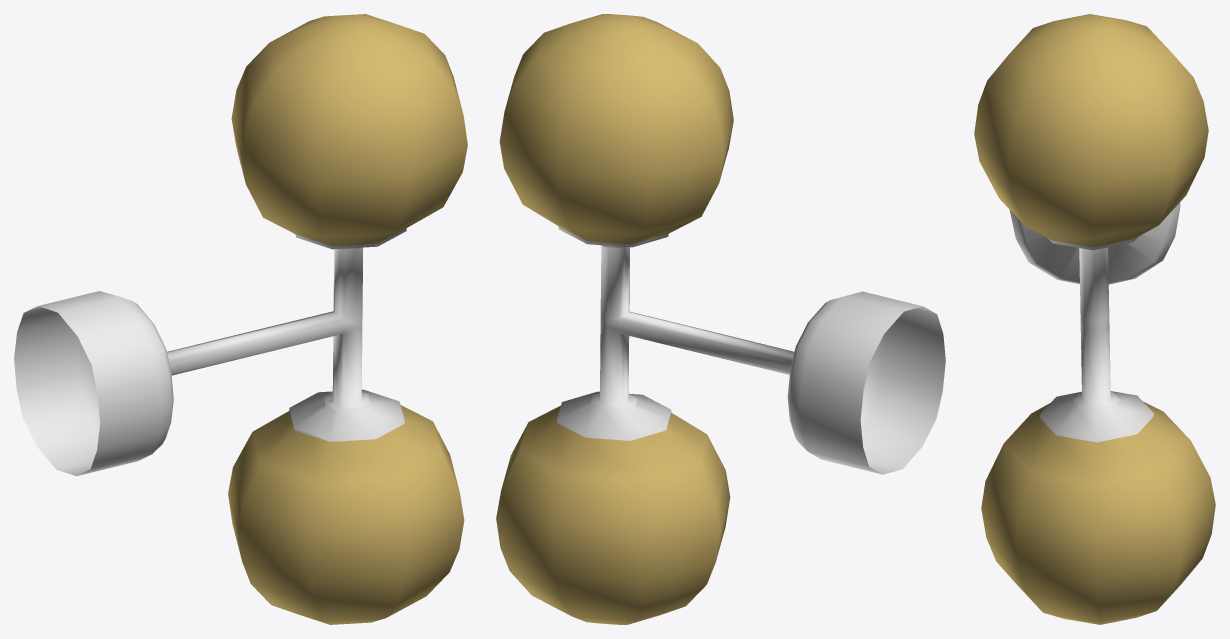
The model's file is applique_bulle.fbx.
3 renders of one model, left to right at view 1: azimuth 30°, elevation 25°; view 2: azimuth 150°, elevation 25°; view 3: azimuth 270°, elevation 25°, orthographic.
Visible parts, largest first — view 1: Circle.003; view 2: Circle.003; view 3: Circle.003.
Part boxes in pixels (x1=…): Circle.003: x1=14, y1=14, x2=467, y2=624; Circle.003: x1=496, y1=14, x2=945, y2=624; Circle.003: x1=974, y1=14, x2=1215, y2=624.
Bounding box in the file's own units: 0.035 × 0.05 × 0.0185.
